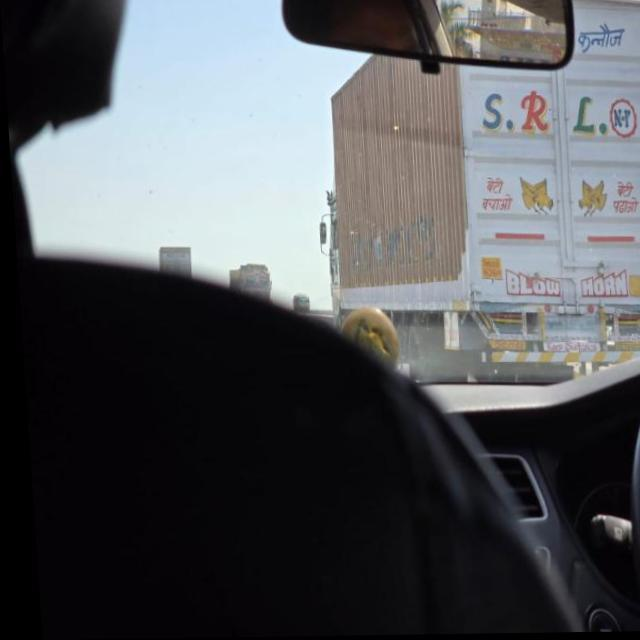covered: (308, 54, 640, 300), (220, 257, 280, 313)
uncovered: (148, 239, 198, 282), (284, 287, 314, 323)
